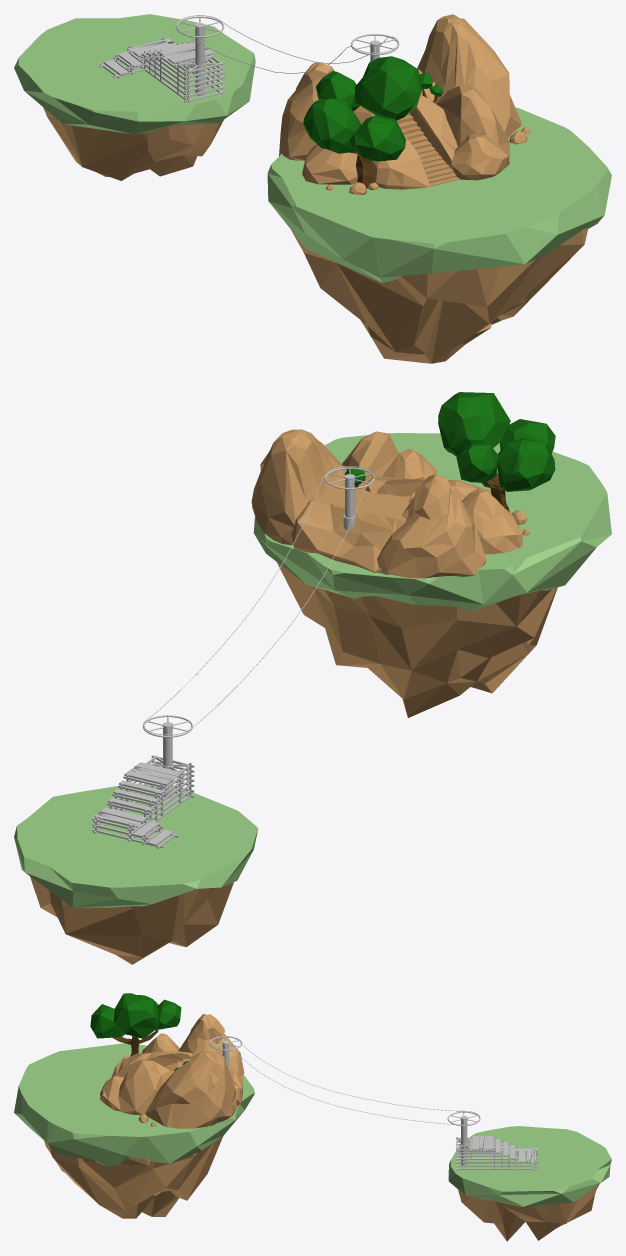
The model's file is cable.fixed.fbx.
The picture shows the model from 3 angles, top to bottom: view 1: azimuth 30°, elevation 25°; view 2: azimuth 150°, elevation 25°; view 3: azimuth 270°, elevation 25°; orthographic projection. The views are drawn at different scales.
Parts seen in each view (by area): view 1: island5, island6, mountain3, mountain4, tree4, wood2, mountain5, mountain1, tree5, mountain6, tree2, mountain7 (+5 smaller); view 2: island5, island6, mountain1, mountain3, mountain2, tree4, wood2, wood1, tree5, mountain7, mountain5, tree3 (+4 smaller); view 3: island5, island6, mountain3, mountain5, tree4, mountain1, wood2, mountain4, wood1, tree2, circle2, tree3 (+3 smaller).
Part boxes in pixels (bbox=[...]): island5: bbox=[267, 107, 611, 363]; island6: bbox=[14, 14, 255, 180]; mountain3: bbox=[417, 14, 521, 137]; mountain4: bbox=[354, 94, 457, 189]; tree4: bbox=[354, 56, 422, 120]; wood2: bbox=[99, 37, 225, 102]; mountain5: bbox=[436, 84, 509, 159]; mountain1: bbox=[279, 62, 354, 160]; tree5: bbox=[303, 98, 361, 153]; mountain6: bbox=[451, 134, 509, 180]; tree2: bbox=[349, 115, 405, 161]; mountain7: bbox=[302, 144, 357, 184]; island5: bbox=[253, 433, 611, 717]; island6: bbox=[14, 784, 258, 964]; mountain1: bbox=[377, 474, 486, 578]; mountain3: bbox=[251, 429, 346, 544]; mountain2: bbox=[291, 487, 409, 572]; tree4: bbox=[438, 392, 510, 456]; wood2: bbox=[92, 755, 194, 848]; wood1: bbox=[93, 762, 182, 845]; tree5: bbox=[497, 437, 555, 491]; mountain7: bbox=[462, 487, 522, 554]; mountain5: bbox=[342, 431, 404, 489]; tree3: bbox=[456, 443, 498, 482]; island5: bbox=[14, 1043, 254, 1218]; island6: bbox=[448, 1126, 611, 1241]; mountain3: bbox=[145, 1050, 236, 1128]; mountain5: bbox=[118, 1059, 172, 1115]; tree4: bbox=[114, 993, 159, 1038]; mountain1: bbox=[178, 1014, 244, 1076]; wood2: bbox=[456, 1137, 537, 1170]; mountain4: bbox=[111, 1051, 192, 1077]; wood1: bbox=[472, 1136, 537, 1162]; tree2: bbox=[90, 1004, 125, 1038]; circle2: bbox=[209, 1035, 480, 1124]; tree3: bbox=[157, 999, 181, 1029].
Size of the model in its own units: 5639 by 6310 by 14983.
